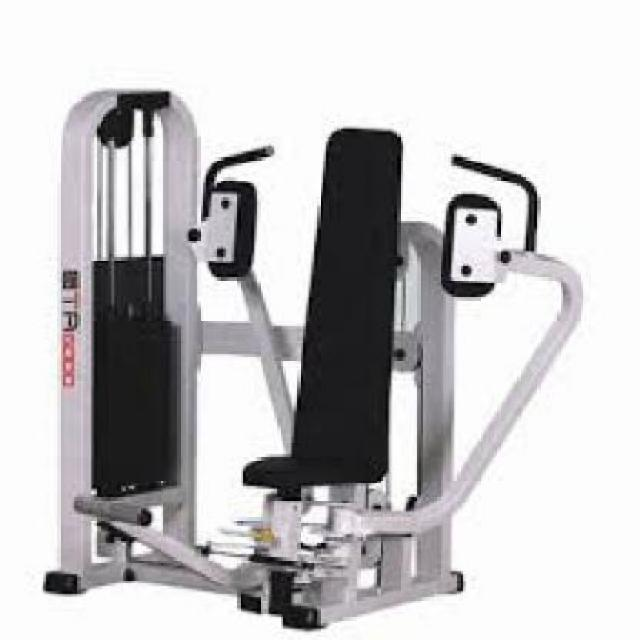chest fly machine: (40, 74, 629, 640)
